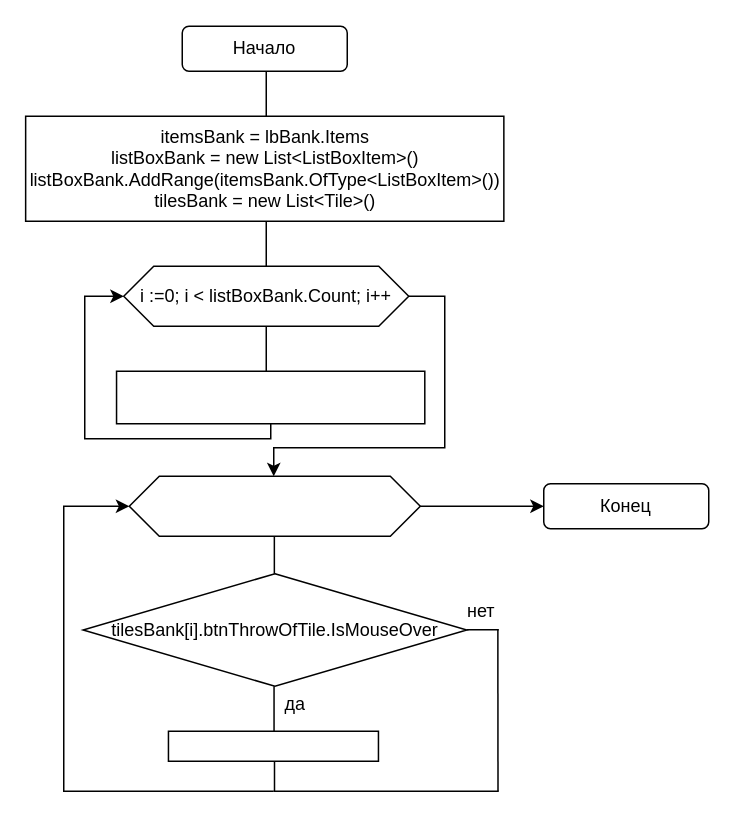
Some shapes in this 737 by 830 pixel diagram are drawn without their labels. The box of each missing label's shape, as (x1, y1, x2, y2) in pixels:
i :=0; i < tilesBank.Count; i++: (128, 475, 420, 536)
itemsBank.RemoveAt(i): (167, 730, 378, 761)
tilesBank. Add((Tile)listBoxBank[i].Content): (115, 370, 425, 424)
